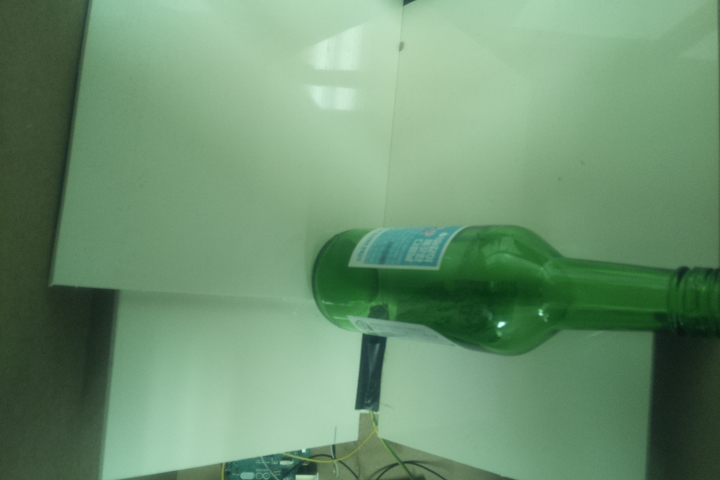soju: (312, 222, 720, 358)
